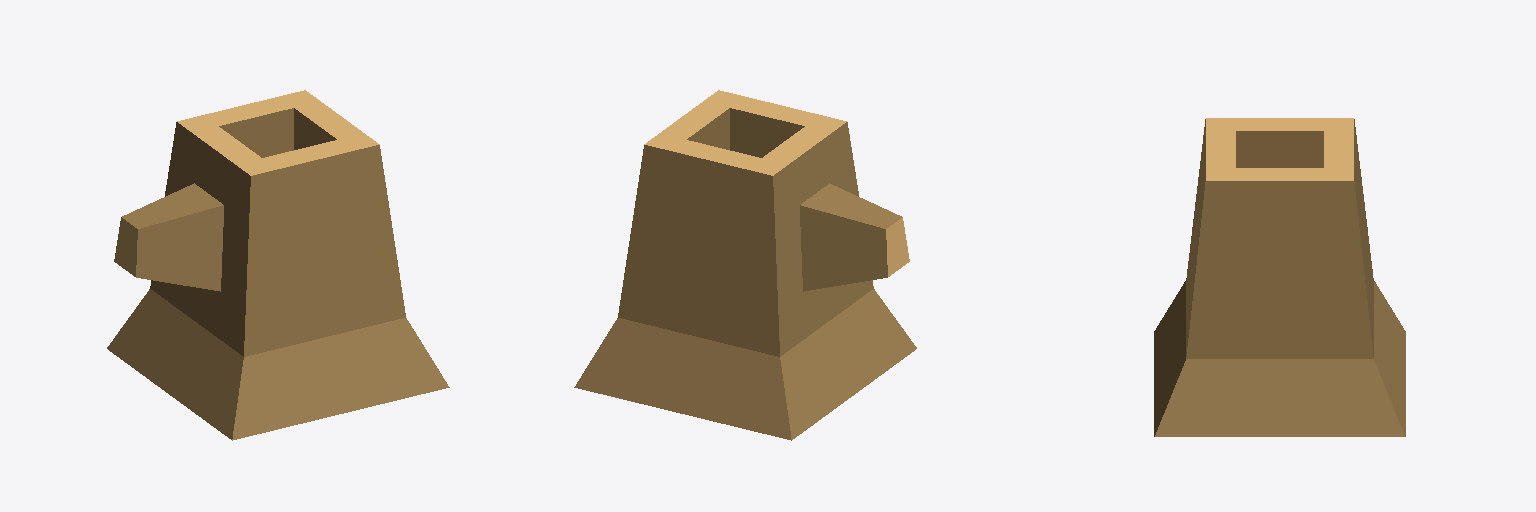
File: Trunk_Alt_01.obj
3 renders of one model, left to right at view 1: azimuth 30°, elevation 25°; view 2: azimuth 150°, elevation 25°; view 3: azimuth 270°, elevation 25°, orthographic.
Parts seen in each view (by area): view 1: Mesh1_Trunk_Alt_Model; view 2: Mesh1_Trunk_Alt_Model; view 3: Mesh1_Trunk_Alt_Model.
Boxes of the visible parts, <box> form: Mesh1_Trunk_Alt_Model: <box>107,90,449,440</box>; Mesh1_Trunk_Alt_Model: <box>574,90,916,440</box>; Mesh1_Trunk_Alt_Model: <box>1154,118,1405,436</box>.
Bounding box in the file's own units: 0.9675 × 0.83 × 0.8037.